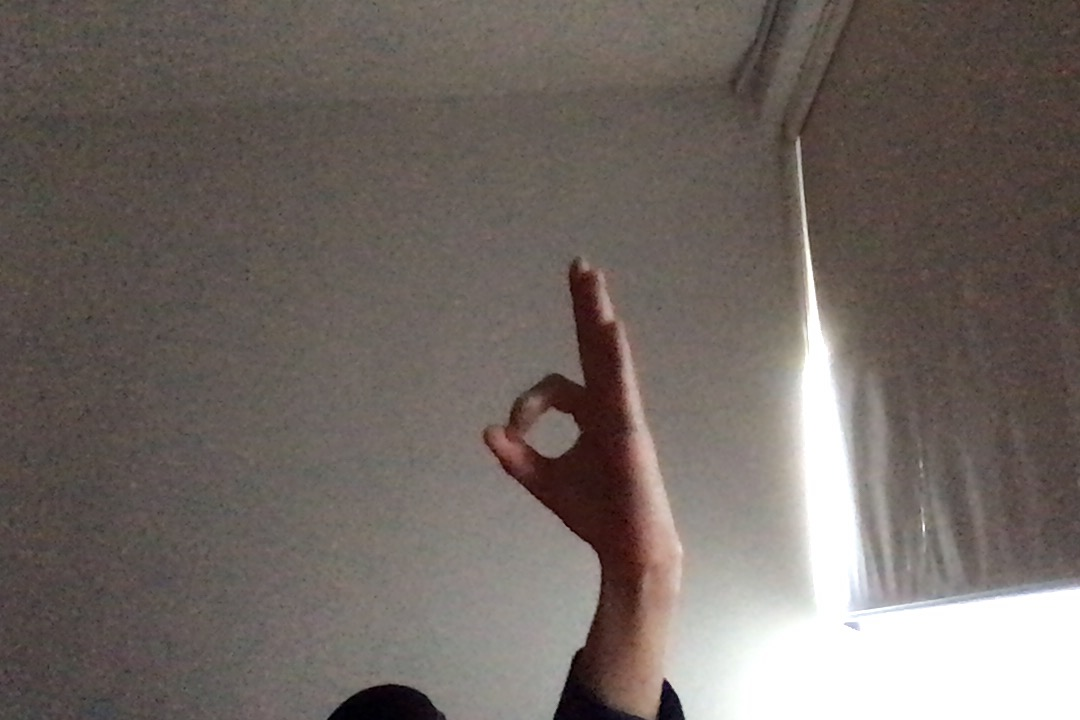oksign: (480, 251, 701, 572)
